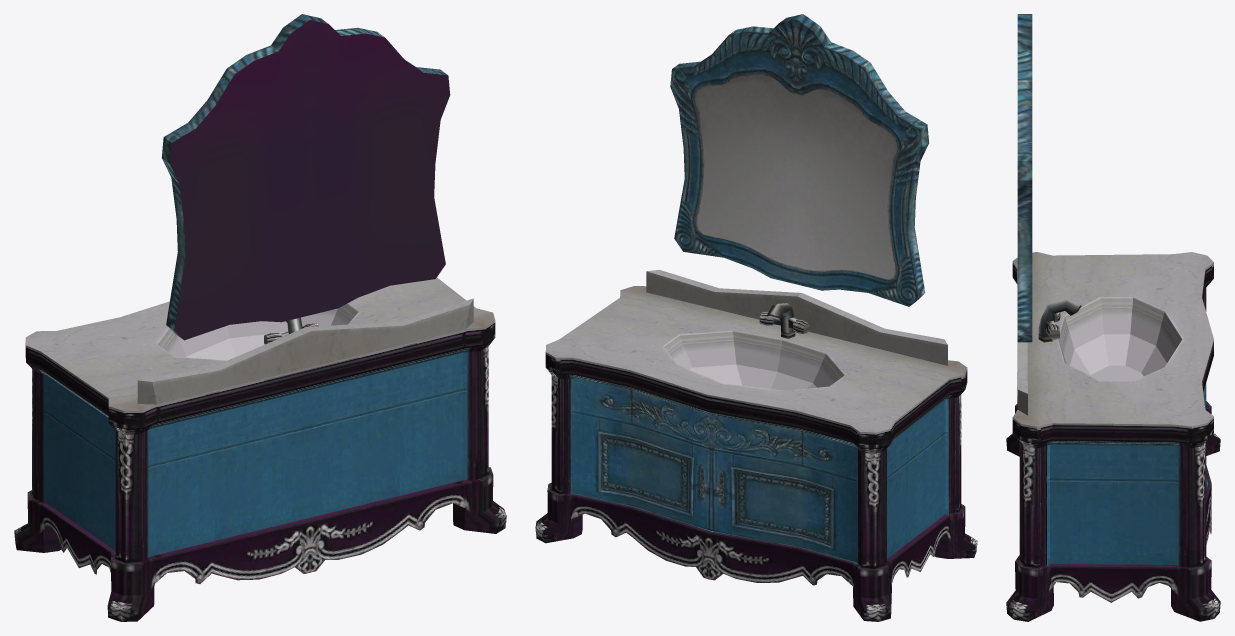
The model's file is furni_0201216_01.FBX.
3 views of the same model, side by side, from view 1: azimuth 30°, elevation 25°; view 2: azimuth 150°, elevation 25°; view 3: azimuth 270°, elevation 25° (orthographic). The views are drawn at different scales.
Parts seen in each view (by area): view 1: furni_0201216_01; view 2: furni_0201216_01; view 3: furni_0201216_01.
Boxes of the visible parts, x1,y1,x2,y2 form: furni_0201216_01: [14, 14, 506, 621]; furni_0201216_01: [535, 14, 977, 621]; furni_0201216_01: [1006, 14, 1220, 621].
Bounding box in the file's own units: 161 × 215 × 80.67.
